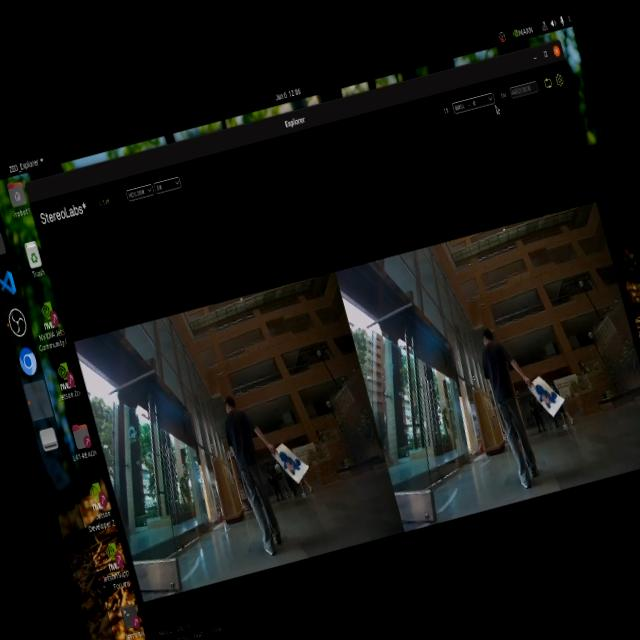blue: (270, 434, 312, 488), (527, 372, 569, 422)
